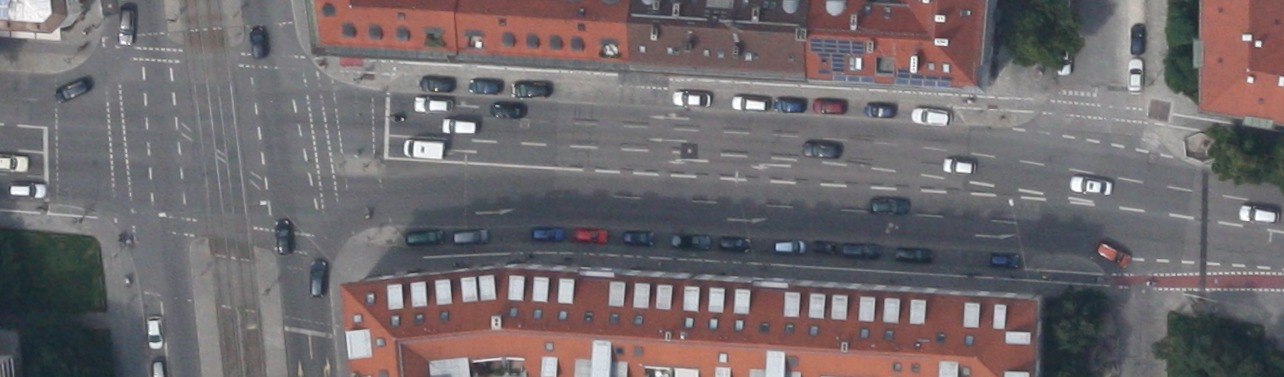car: (1236, 202, 1280, 225), (1095, 240, 1131, 268), (1068, 174, 1113, 196), (52, 78, 87, 104), (910, 106, 952, 126), (868, 195, 910, 214), (801, 139, 842, 158), (273, 217, 294, 254), (308, 258, 327, 297), (894, 245, 933, 263), (116, 7, 134, 45), (512, 79, 550, 97), (671, 232, 709, 250), (247, 24, 267, 58), (413, 96, 453, 113), (404, 229, 444, 245), (491, 100, 526, 118), (730, 95, 769, 111), (842, 243, 881, 259), (419, 75, 455, 92), (863, 100, 897, 118), (941, 157, 975, 175), (573, 227, 608, 244), (468, 77, 501, 95), (671, 91, 710, 106), (441, 118, 477, 134), (1126, 58, 1143, 91), (531, 225, 564, 242), (453, 228, 488, 244), (989, 251, 1020, 269), (622, 229, 654, 246), (720, 235, 750, 253), (813, 97, 846, 113), (9, 184, 46, 198), (774, 96, 806, 112), (147, 315, 162, 349), (774, 237, 805, 253), (1130, 24, 1144, 53), (811, 239, 836, 255)
